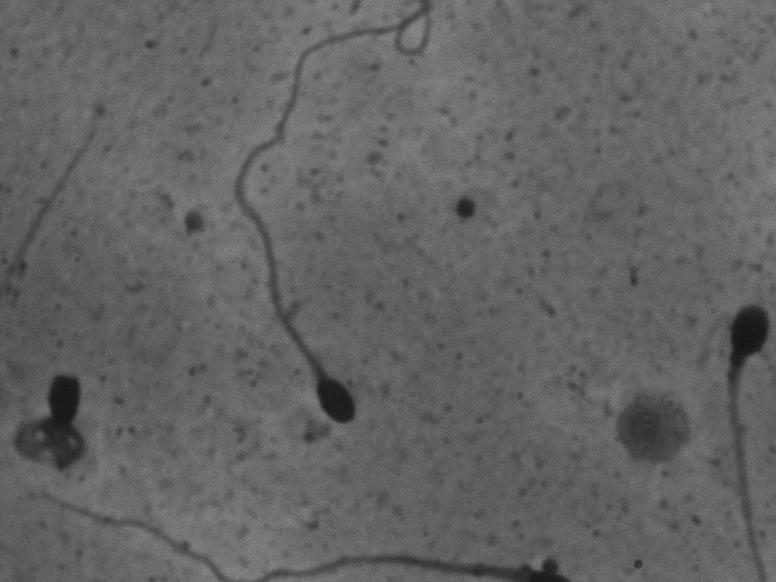Abnormal: (206, 16, 402, 449), (6, 351, 109, 488)
